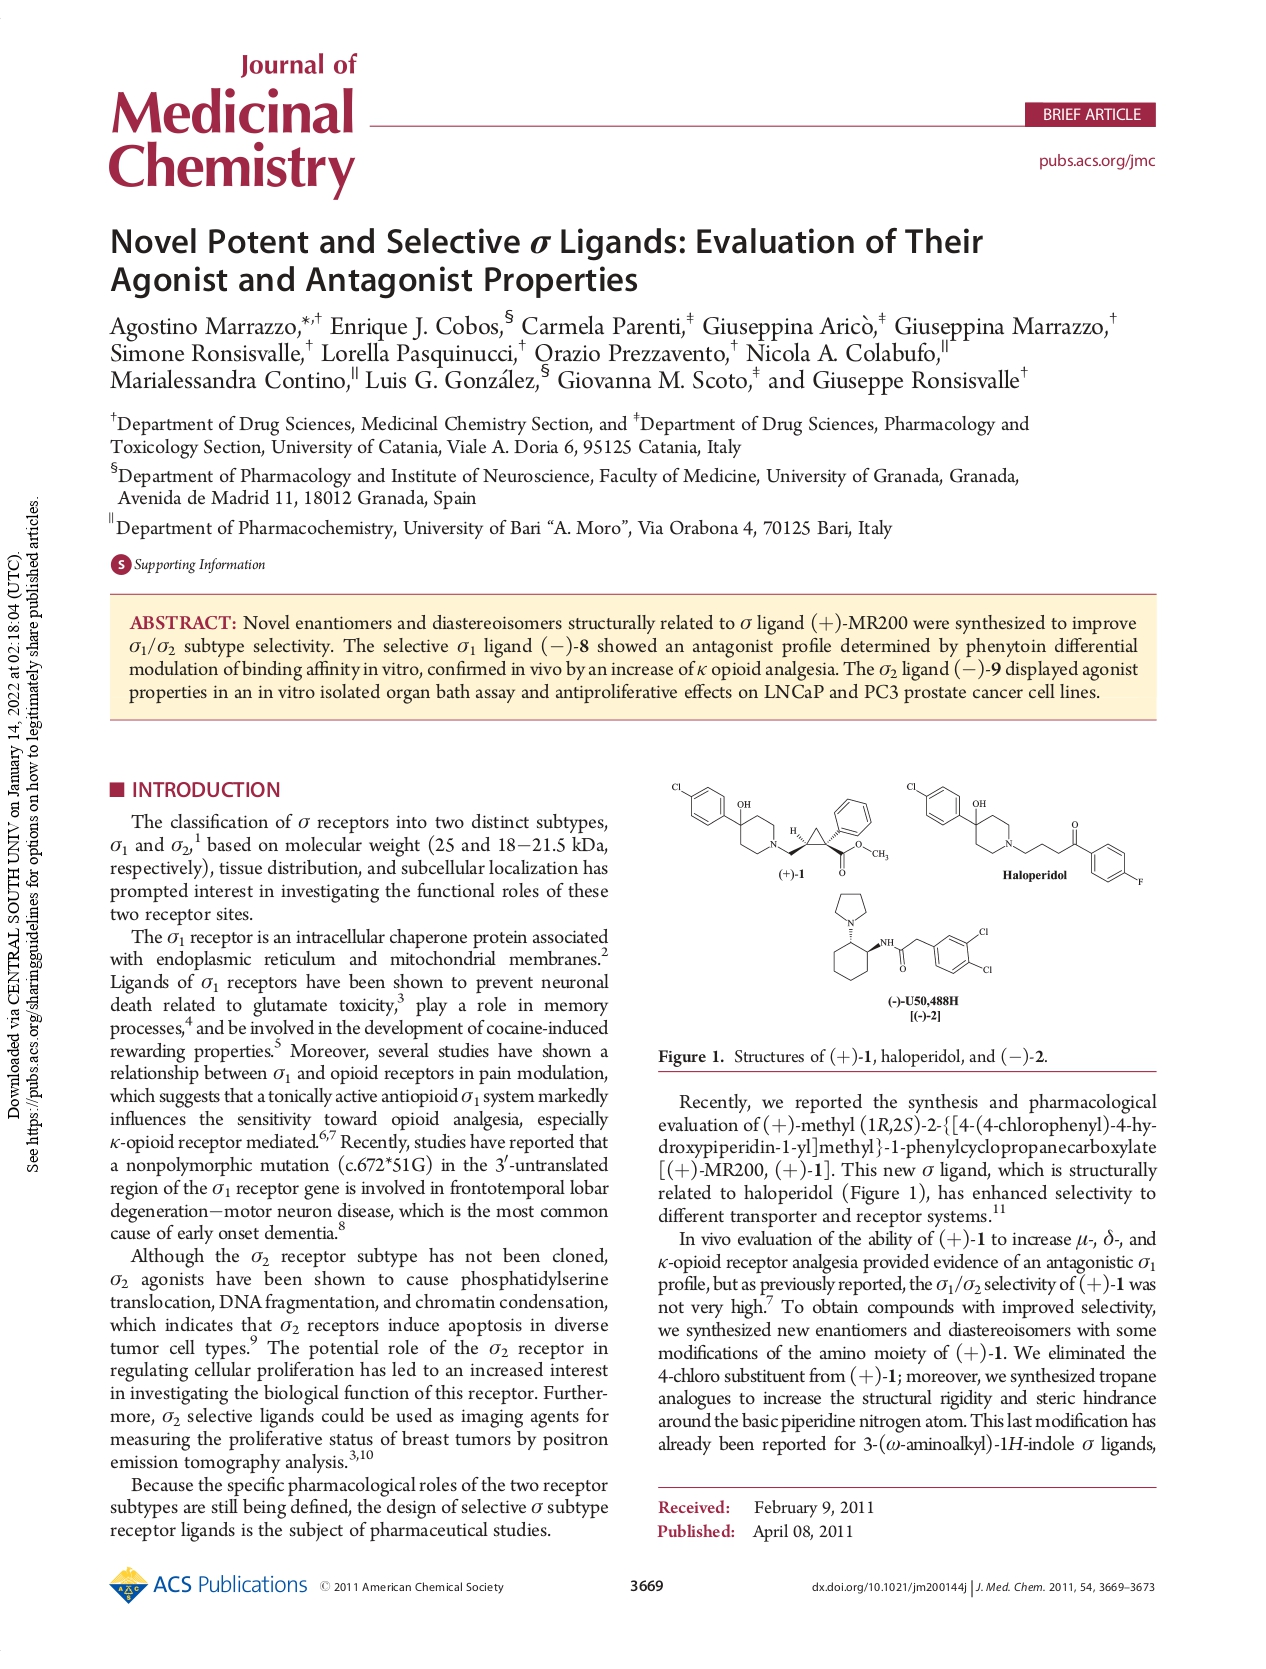exist_molecular: (904, 775, 1149, 892), (669, 777, 890, 880), (826, 886, 997, 985)
